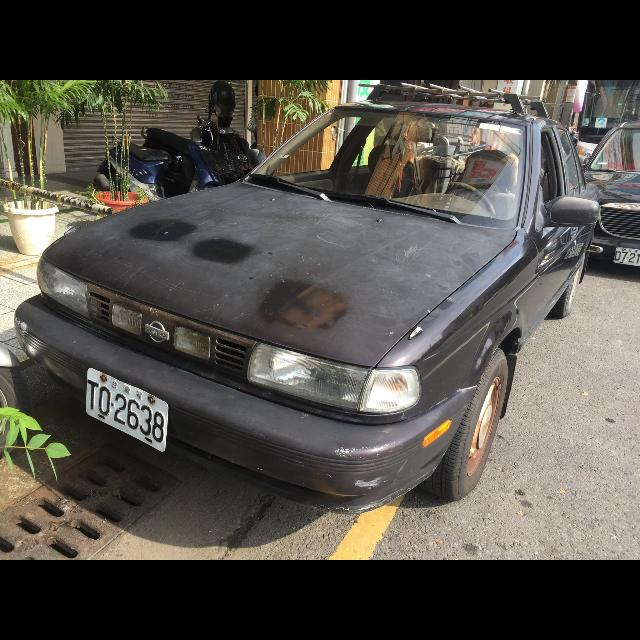plate: (86, 368, 169, 452)
